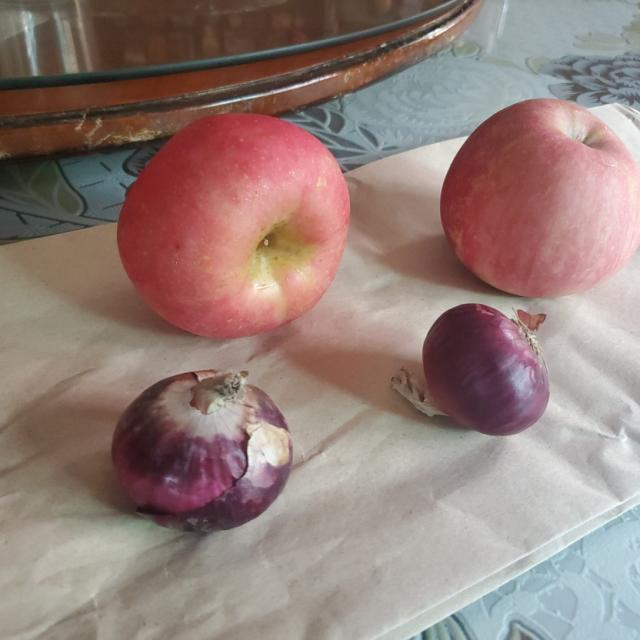apple: (120, 116, 355, 343), (439, 90, 640, 297)
onion: (112, 374, 292, 530), (394, 301, 550, 440)
